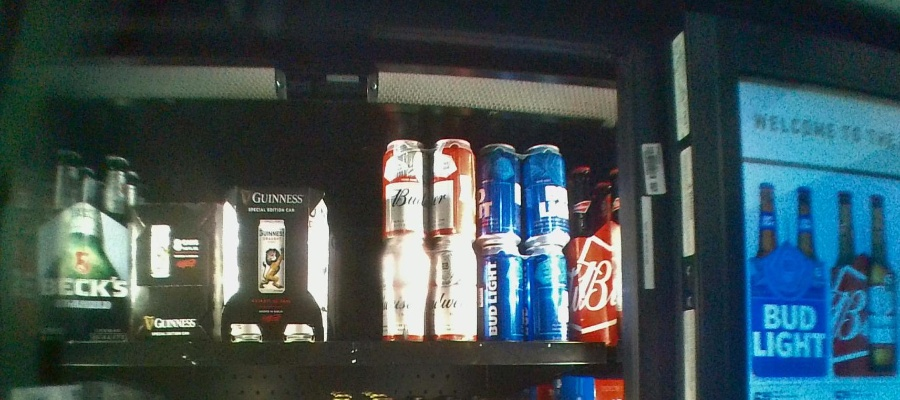bottle: (379, 137, 478, 339), (478, 141, 573, 343), (217, 185, 333, 341), (42, 146, 128, 339), (126, 203, 221, 338)
